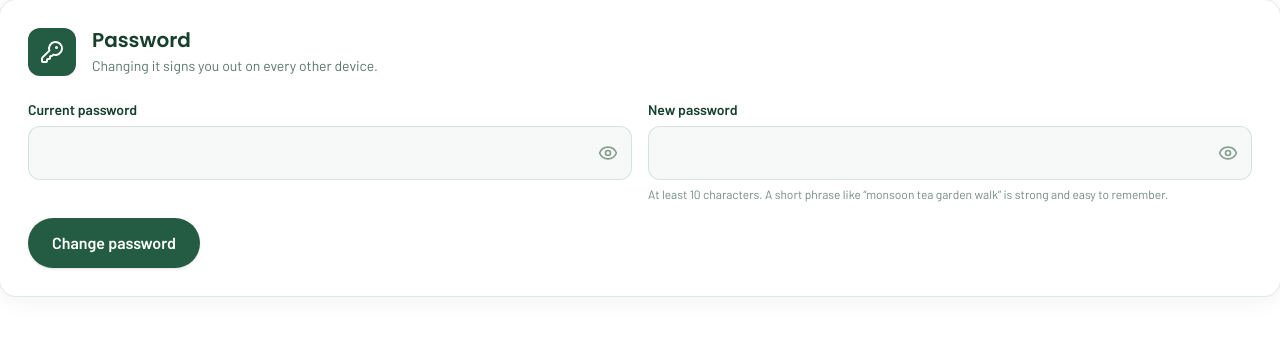
Account screens › changes the password from the account page
Type "old trusty password" into the password field labelled "Current password".
click(330, 153); type("old trusty password")  # box [28,126,632,180]
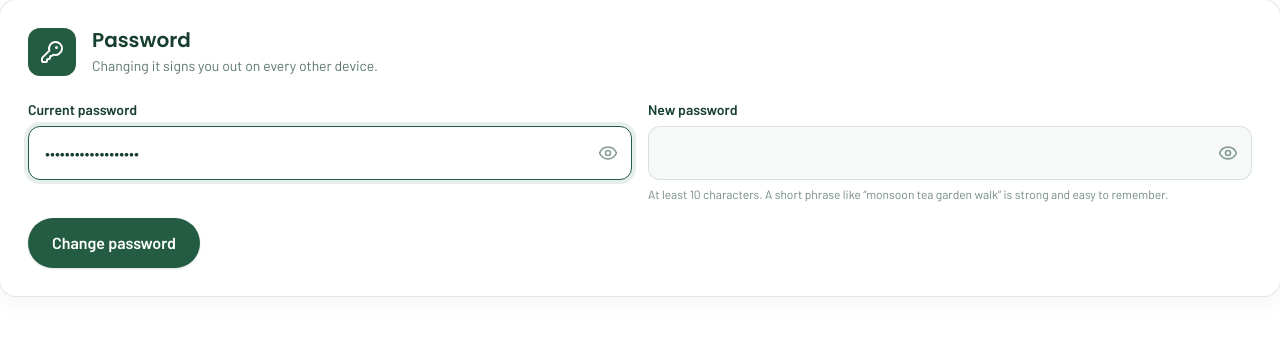
Type "hill station mornings" into the password field labelled "New password".
click(950, 153); type("hill station mornings")  # box [648,126,1252,180]
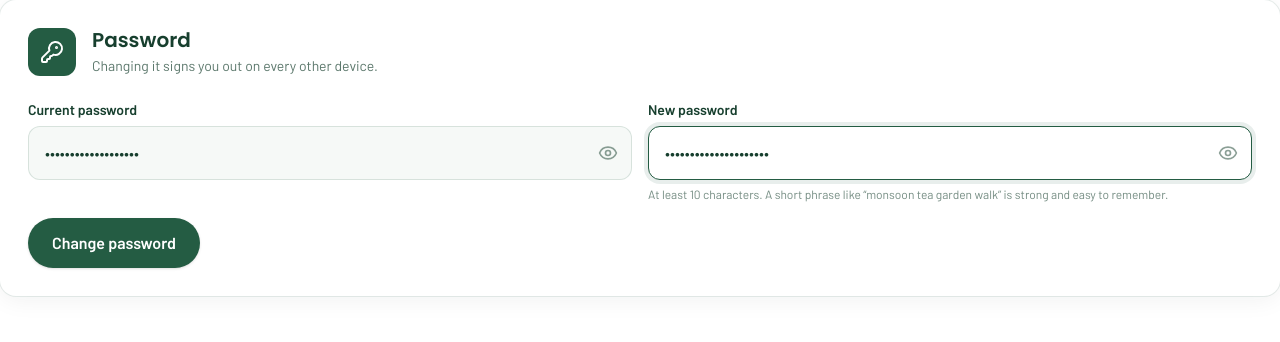
Click the button "Change password".
click(114, 243)  # box [28,218,200,268]
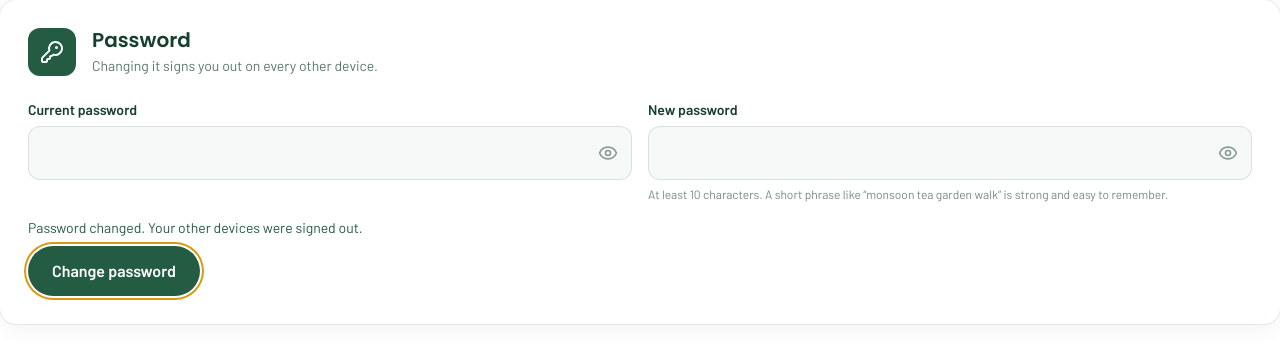
Check: the text "Password changed. Your other devices were signed out." is shown, box [28,219,363,236]
